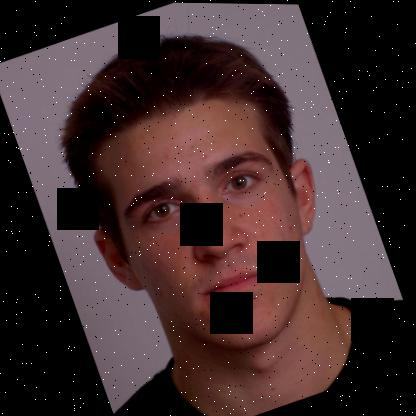Male: (59, 66, 363, 384)
